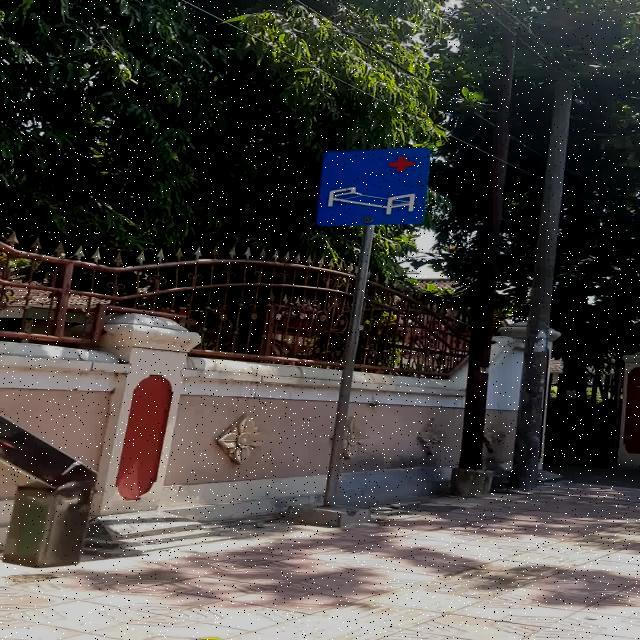Rumah Sakit: (314, 148, 430, 226)
